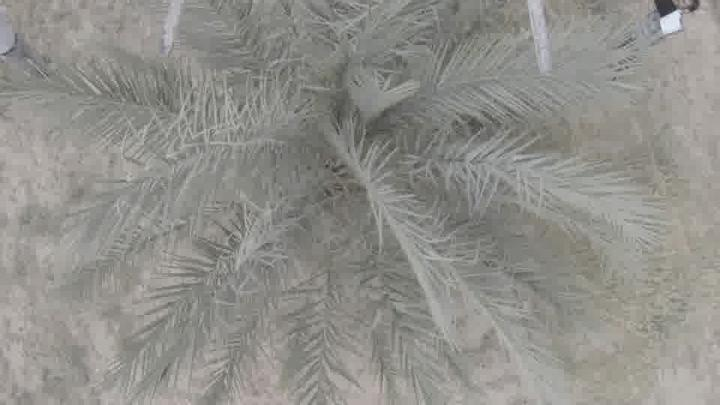Date-Palm-Crown: (148, 0, 518, 312)
